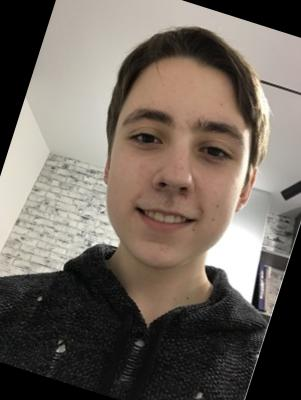without_mask: (74, 90, 264, 289)
